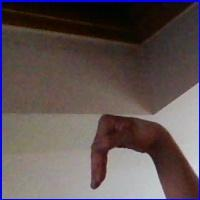A: (85, 109, 172, 189)
